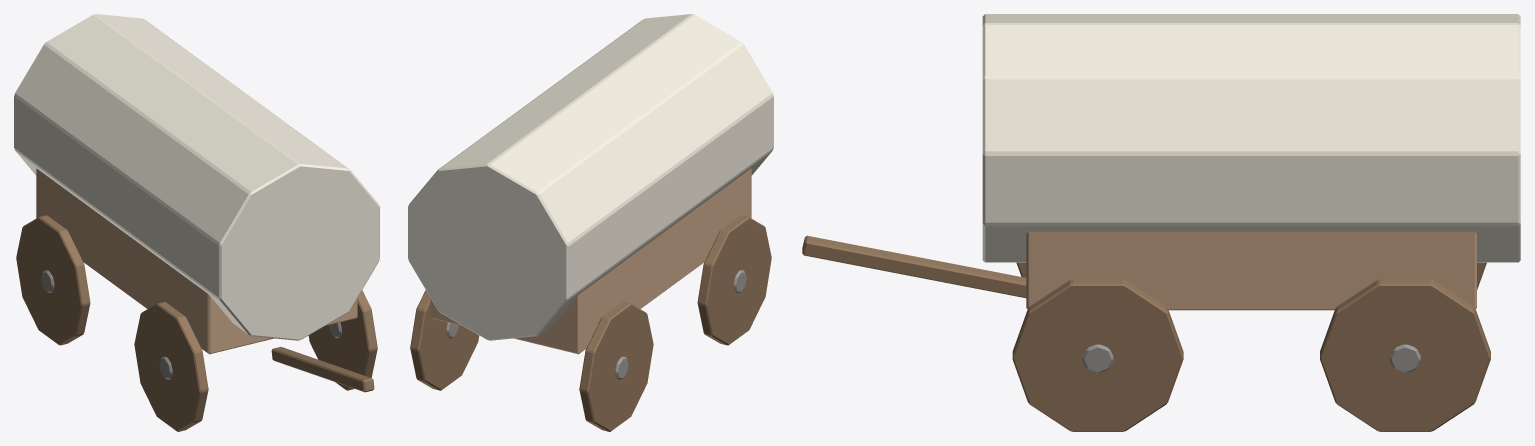
The picture shows the model from 3 angles, left to right: view 1: azimuth 30°, elevation 25°; view 2: azimuth 150°, elevation 25°; view 3: azimuth 270°, elevation 25°; orthographic projection. The views are drawn at different scales.
Visible parts, largest first — view 1: Wagon; view 2: Wagon; view 3: Wagon.
Part boxes in pixels (left/top/right/bottom): Wagon: left=14, top=14, right=379, bottom=431; Wagon: left=408, top=14, right=773, bottom=431; Wagon: left=802, top=14, right=1520, bottom=431.
Bounding box in the file's own units: 1.34 × 1.9 × 3.51.
